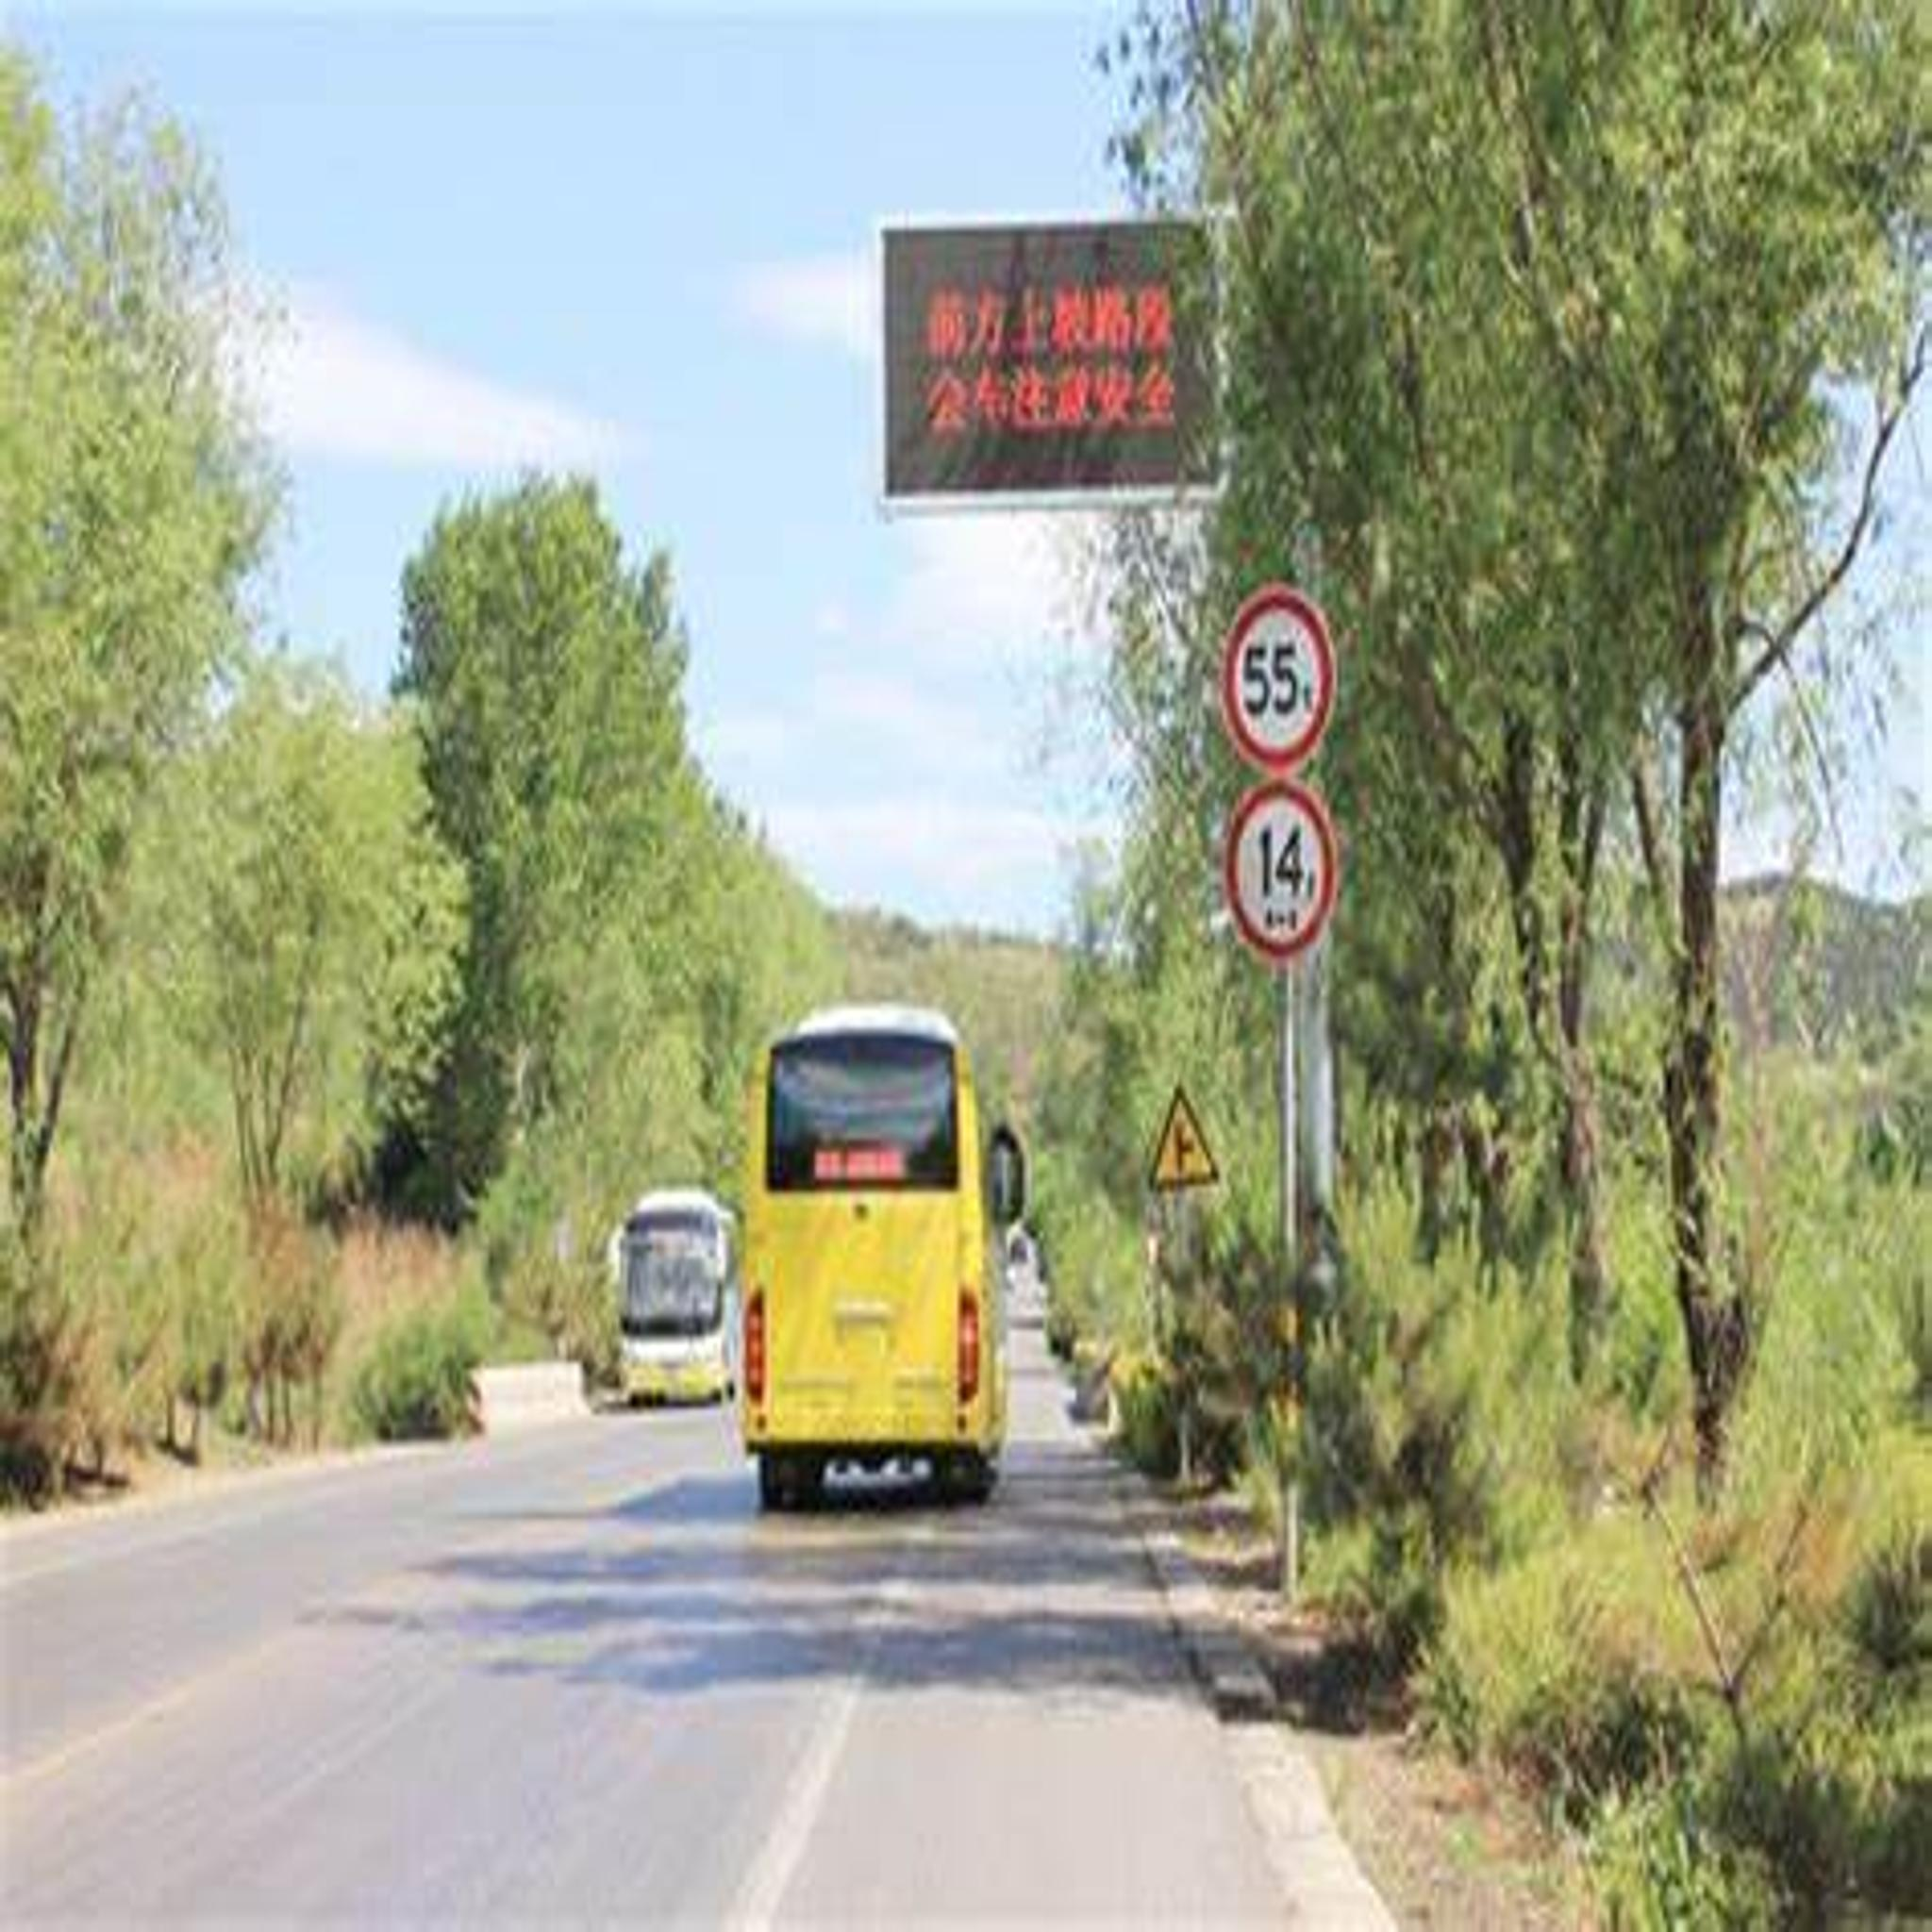pm55: (1230, 593, 1338, 775)
